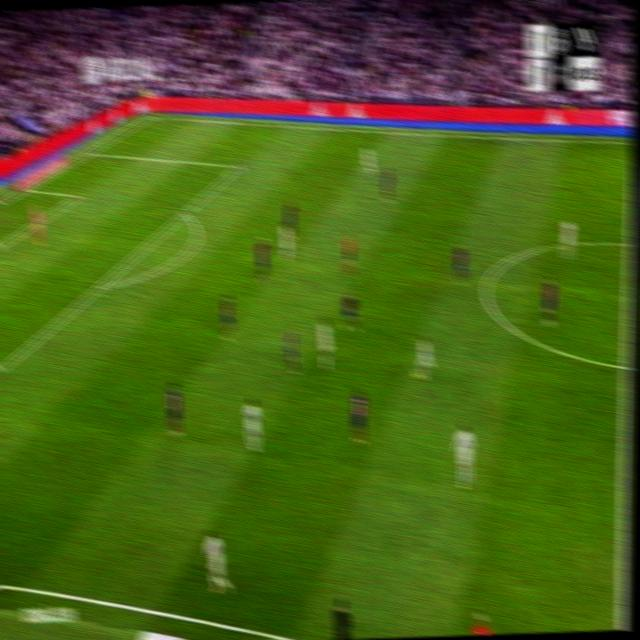bigarea_top_inner: (232, 156, 244, 172)
bottom_arc_area_intersection: (92, 276, 106, 294)
corner: (144, 110, 157, 120)
halfcircle_bottom: (616, 351, 634, 380)
halfcircle_top: (620, 231, 635, 253)
smallarea_top_inner: (72, 189, 82, 200)
top_arc_area_intersection: (178, 204, 190, 220)
